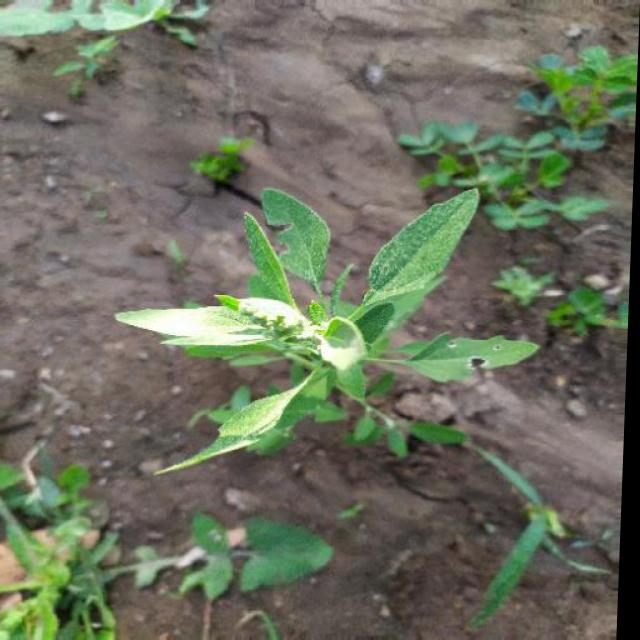weed: (129, 198, 541, 492)
